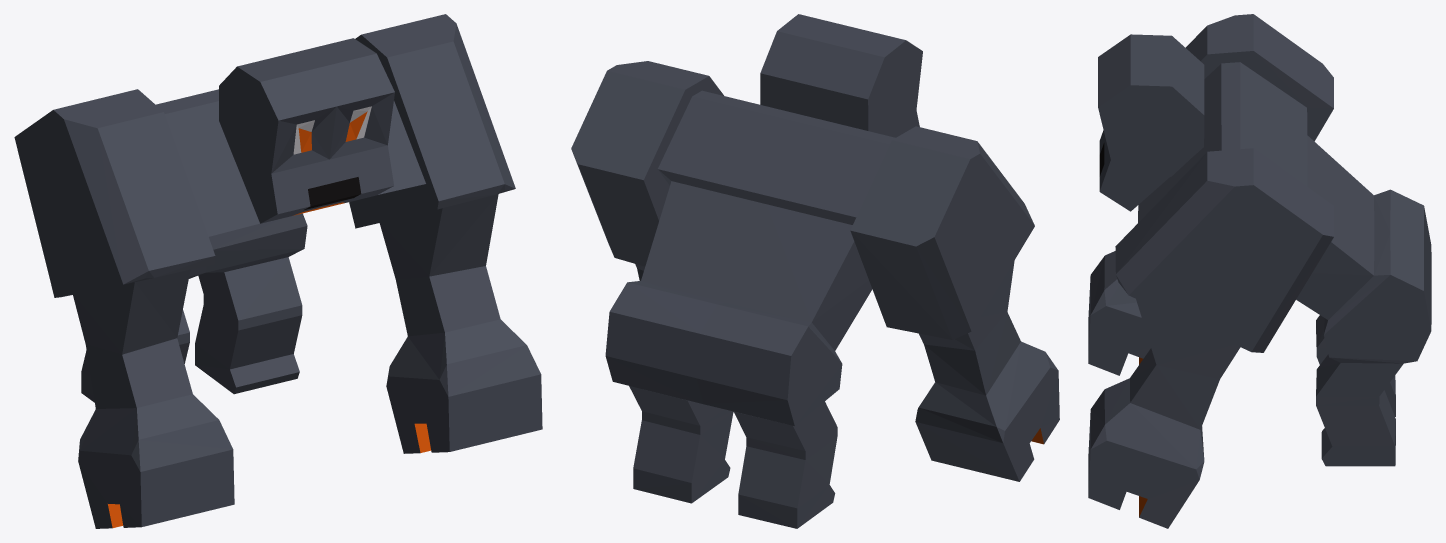
Rendered from kong_000038.obj.
3 renders of one model, left to right at view 1: azimuth 30°, elevation 25°; view 2: azimuth 150°, elevation 25°; view 3: azimuth 270°, elevation 25°, orthographic. The views are drawn at different scales.
Parts seen in each view (by area): view 1: Cube; view 2: Cube; view 3: Cube.
Boxes of the visible parts, left/top/right/bottom form: Cube: left=14, top=14, right=542, bottom=528; Cube: left=571, top=14, right=1059, bottom=528; Cube: left=1088, top=14, right=1431, bottom=528.
Bounding box in the file's own units: 5.84 × 5.92 × 4.83.
Materials: 1 (1 with a texture image).
